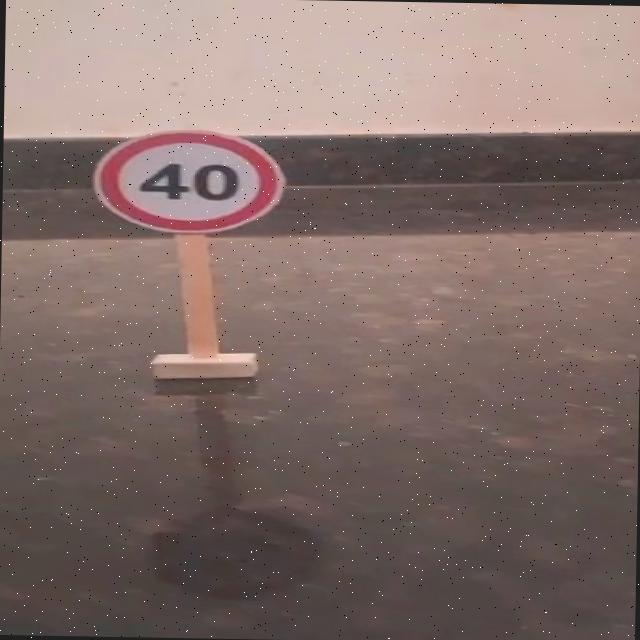Speed40: (84, 124, 290, 238)
